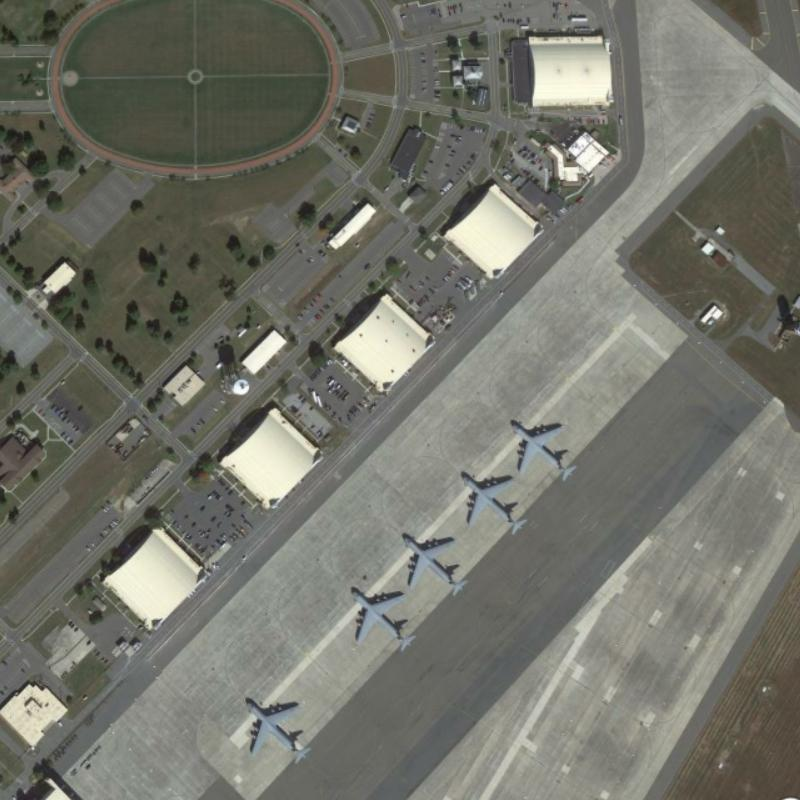A4: (342, 583, 418, 655), (505, 414, 581, 485), (241, 693, 314, 766), (457, 466, 530, 538), (398, 528, 470, 598)
